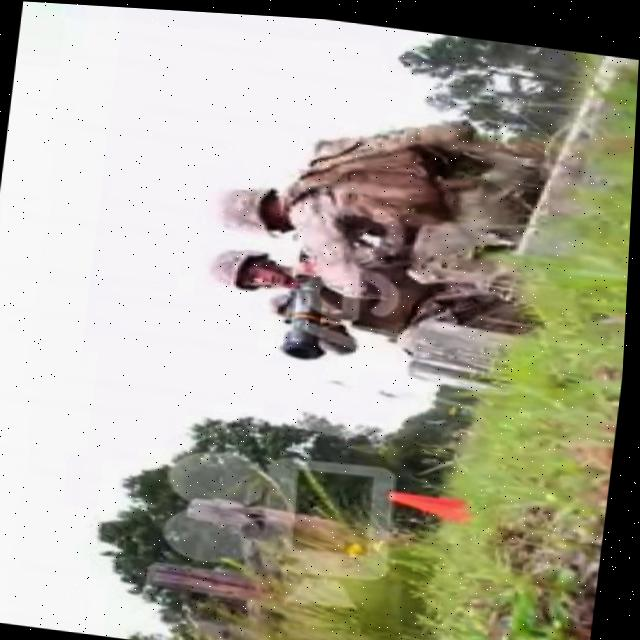rocket: (279, 265, 337, 354)
